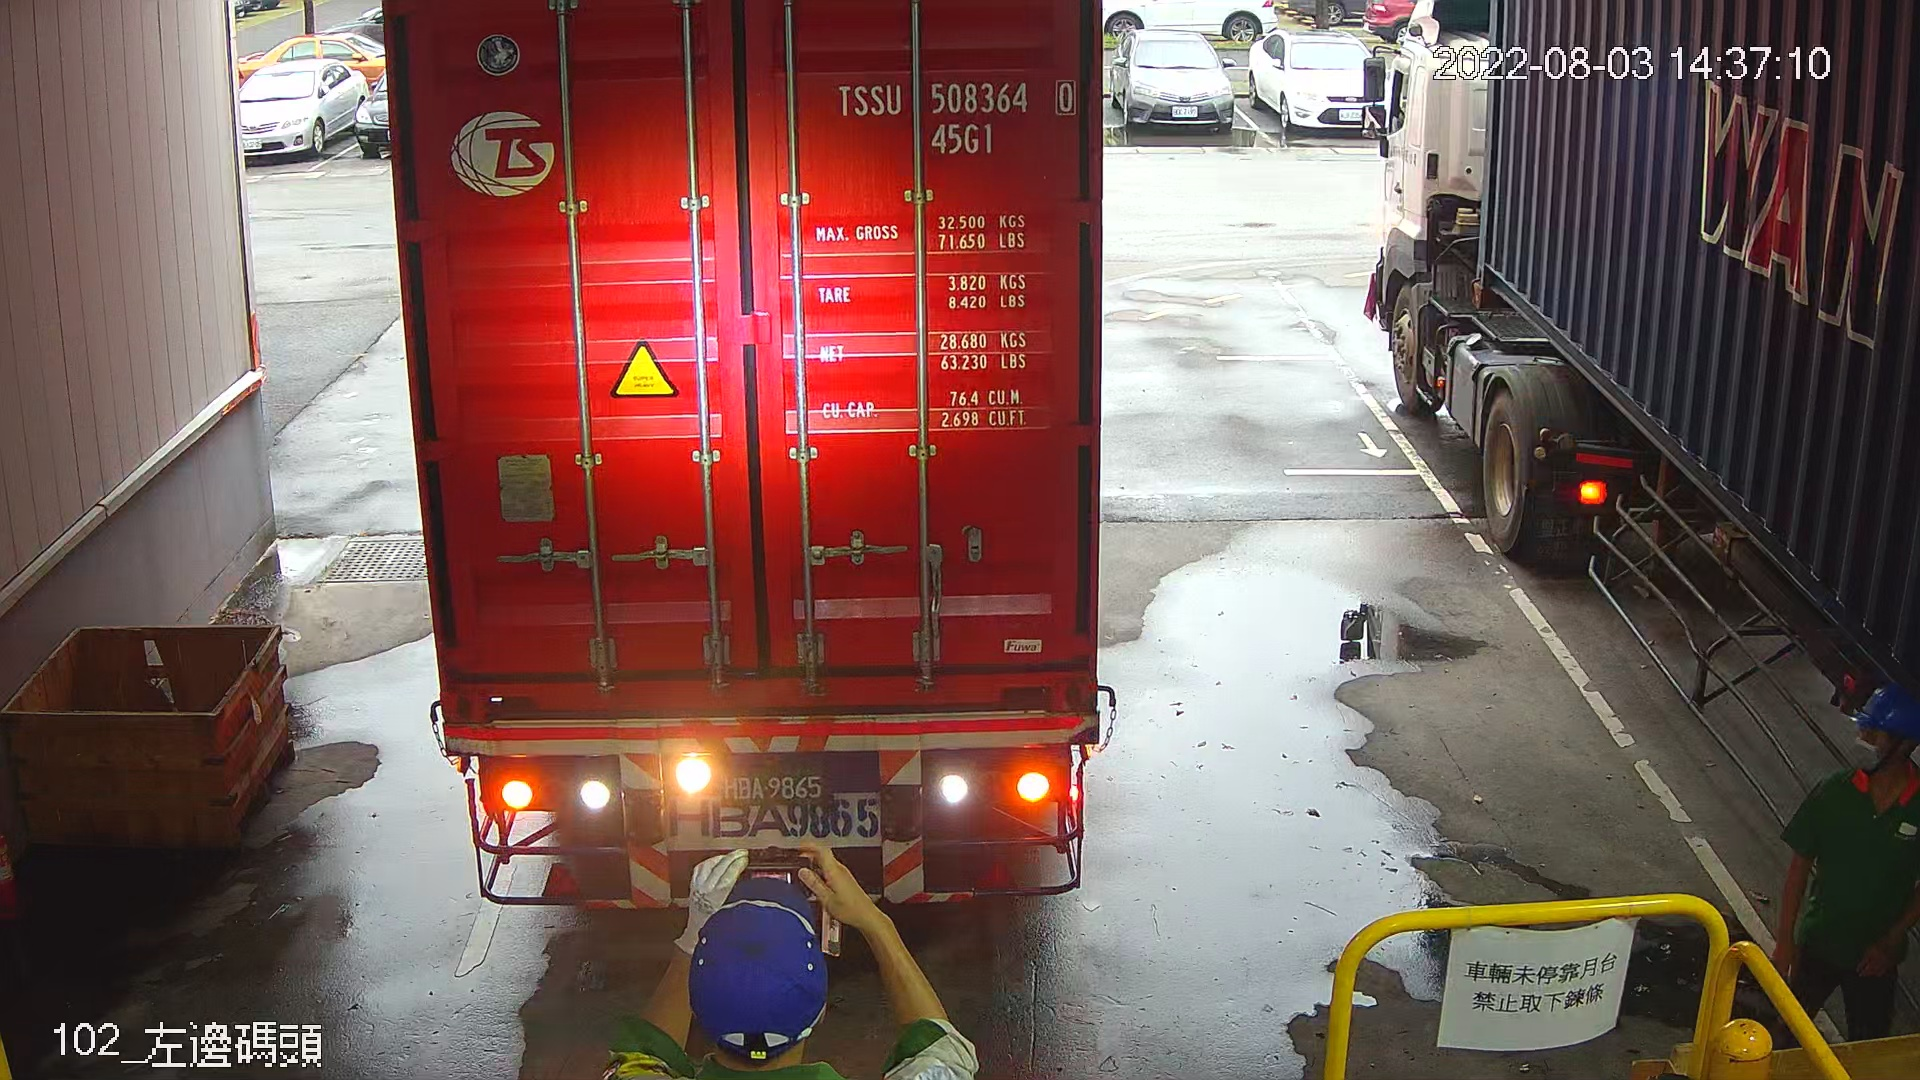container: (831, 74, 1085, 160)
